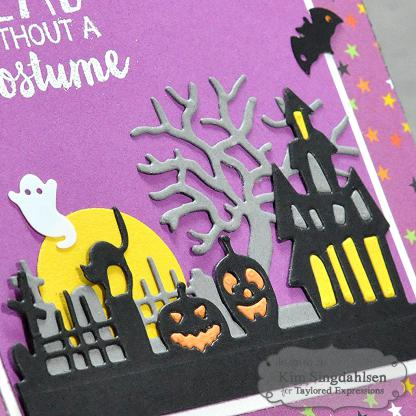Pumpkin: (213, 237, 280, 335), (156, 282, 235, 356)
